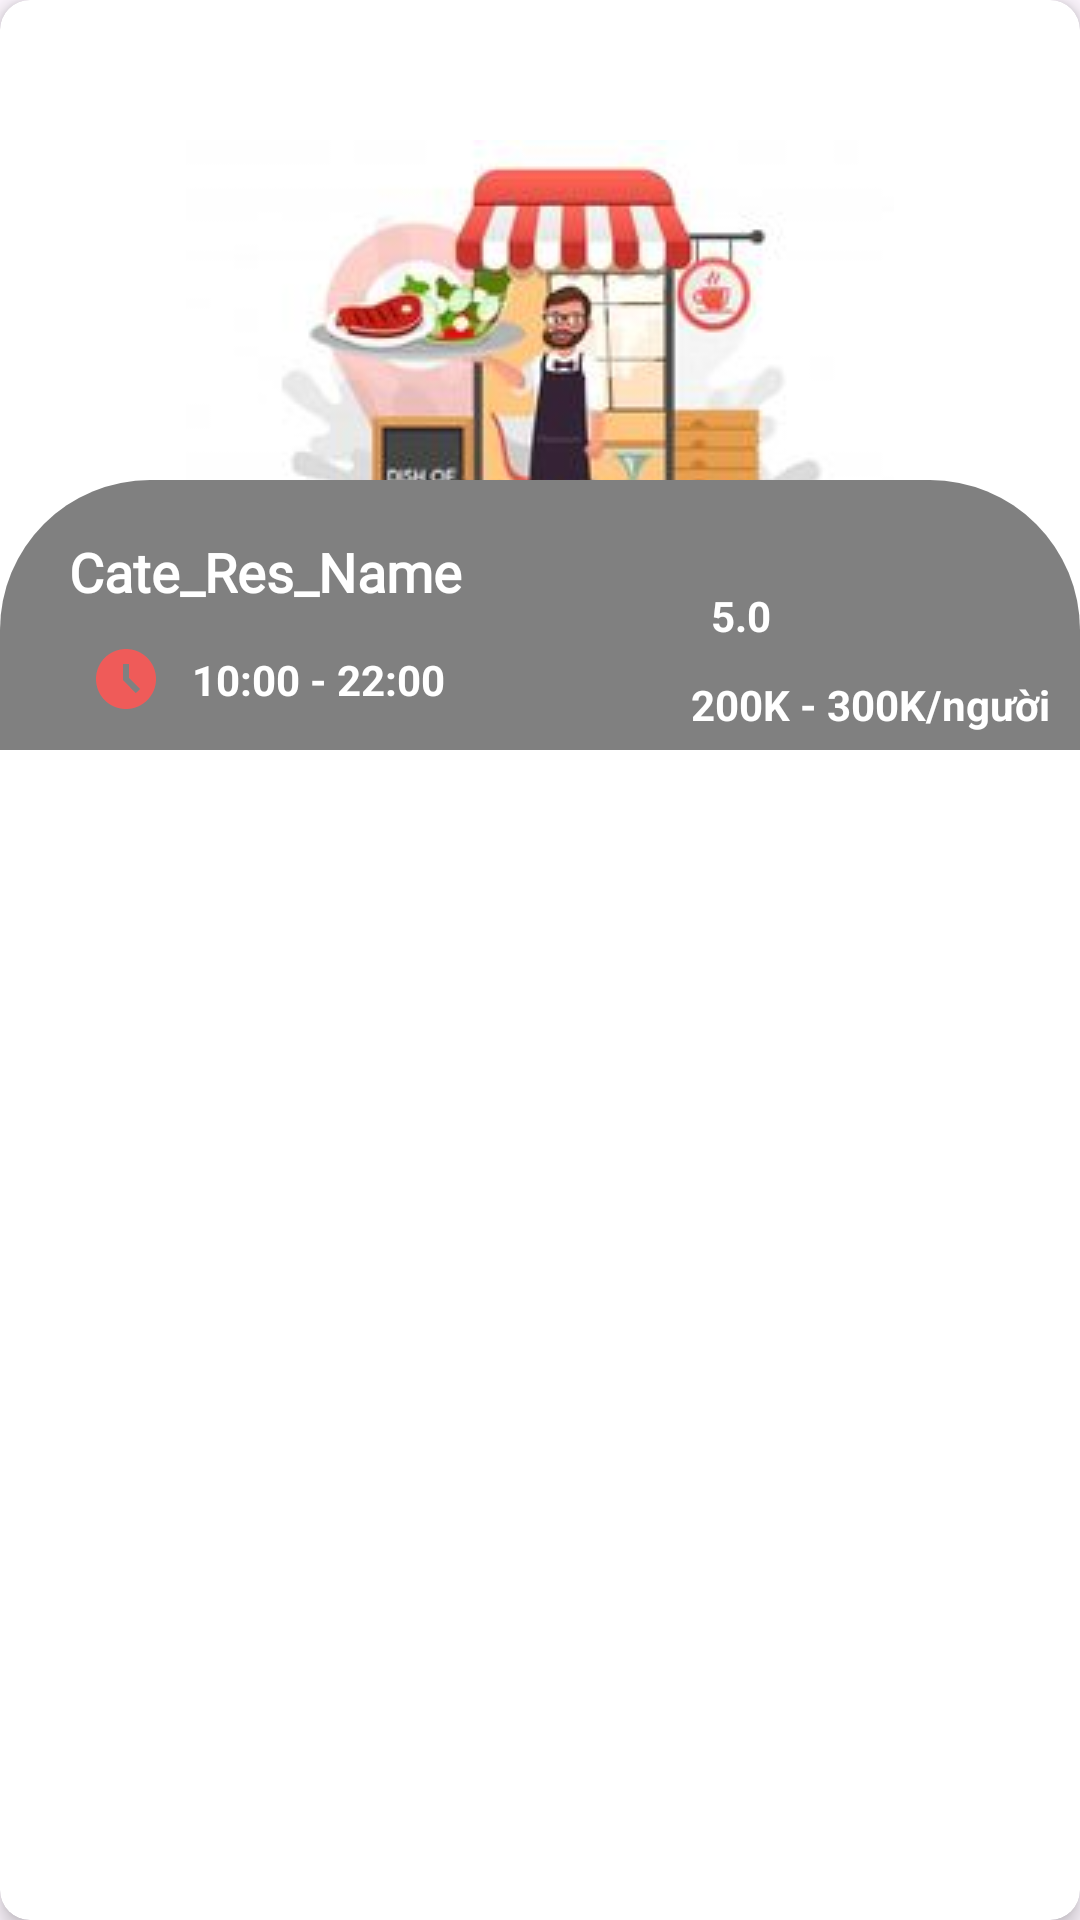

Icons on this 1080 x 1920 Android screen, each with the point to tap as (x,y):
access time: (126,679)
